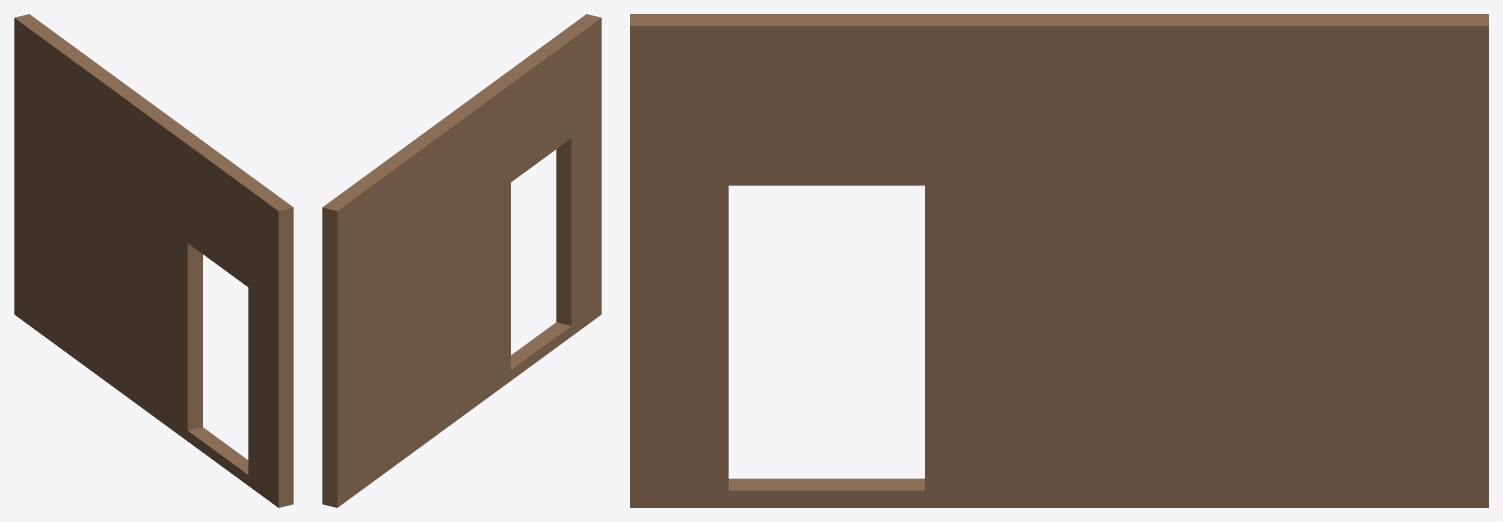
Rendered from Walls_001.fbx.
The picture shows the model from 3 angles, left to right: view 1: azimuth 30°, elevation 25°; view 2: azimuth 150°, elevation 25°; view 3: azimuth 270°, elevation 25°; orthographic projection. The views are drawn at different scales.
Visible parts, largest first — view 1: Walls.001; view 2: Walls.001; view 3: Walls.001.
Boxes of the visible parts, x1=… form: Walls.001: x1=14, y1=14, x2=293, y2=507; Walls.001: x1=322, y1=14, x2=601, y2=507; Walls.001: x1=630, y1=14, x2=1488, y2=507.
Size of the model in its own units: 17.19 by 323 by 521.
